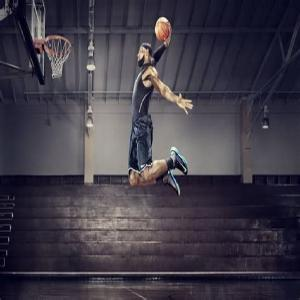Basket: (155, 16, 171, 43)
